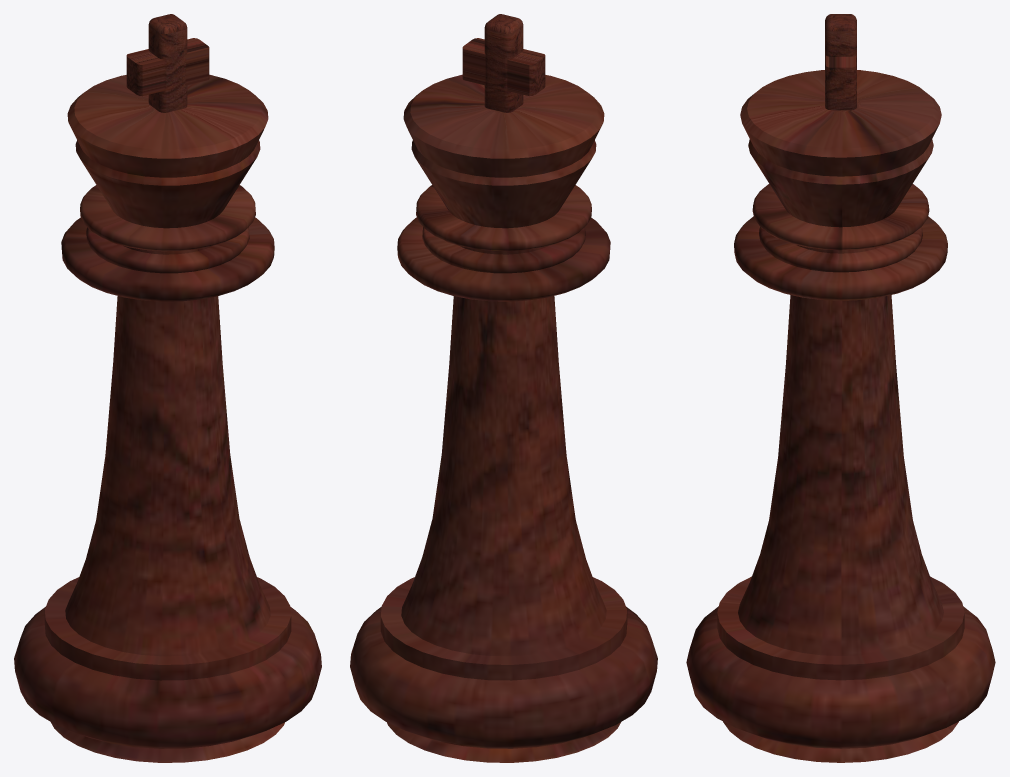
Rendered from BlackKing.FBX.
3 views of the same model, side by side, from view 1: azimuth 30°, elevation 25°; view 2: azimuth 150°, elevation 25°; view 3: azimuth 270°, elevation 25° (orthographic).
Parts seen in each view (by area): view 1: KingB, King Cross; view 2: KingB, King Cross; view 3: KingB, King Cross.
Part boxes in pixels (bbox=[...]): KingB: bbox=[14, 74, 321, 762]; King Cross: bbox=[126, 14, 209, 112]; KingB: bbox=[350, 74, 657, 762]; King Cross: bbox=[462, 14, 545, 112]; KingB: bbox=[686, 70, 995, 762]; King Cross: bbox=[825, 14, 856, 110].
Bounding box in the file's own units: 0.1843 × 0.1843 × 0.4563.
Materials: 1 (1 with a texture image).
